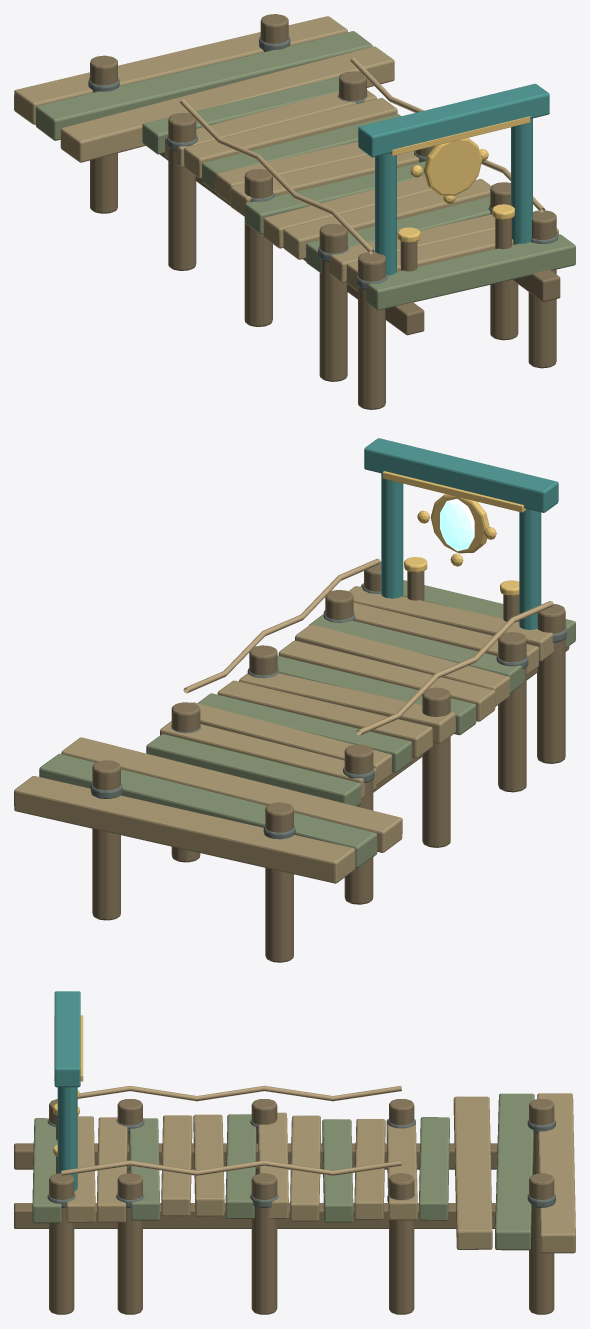
The model's file is building_sallow_jetty_v1.glb.
3 renders of one model, top to bottom at view 1: azimuth 30°, elevation 25°; view 2: azimuth 150°, elevation 25°; view 3: azimuth 270°, elevation 25°, orthographic. The views are drawn at different scales.
Visible parts, largest first — view 1: LandingPlank_01, LandingPlank_02, PierPlank_12, ShrineLintel, LandingPlank_00, PierPlank_02, Pile_3_L, Pile_1_L, Pile_4_L, Pile_2_L, PierPlank_08, PierPlank_00 (+24 smaller); view 2: LandingPlank_00, LandingPlank_02, LandingPlank_01, ShrineLintel, PierPlank_00, PierPlank_04, PierPlank_08, PierPlank_07, Pile_4_L, PierPlank_05, Pile_2_L, Pile_3_L (+21 smaller); view 3: LandingPlank_02, LandingPlank_01, LandingPlank_00, Bearer_R, Pile_2_R, Pile_3_R, PierPlank_00, Pile_4_R, Pile_1_R, PierPlank_04, PierPlank_03, PierPlank_07 (+19 smaller).
Part boxes in pixels (x1,y1,x2,y2): LandingPlank_01: (35,31,372,140); LandingPlank_02: (60,46,394,162); PierPlank_12: (366,234,575,310); ShrineLintel: (358,84,549,157); LandingPlank_00: (14,16,347,124); PierPlank_02: (184,98,397,178); Pile_3_L: (319,224,347,381); Pile_1_L: (168,113,196,270); Pile_4_L: (358,252,385,409); Pile_2_L: (244,169,272,326); PierPlank_08: (283,179,491,259); PierPlank_00: (142,77,339,154); LandingPlank_00: (14,776,355,883); LandingPlank_02: (61,737,402,852); LandingPlank_01: (39,753,377,867); ShrineLintel: (364,438,558,512); PierPlank_00: (146,734,361,806); PierPlank_04: (217,680,432,758); PierPlank_08: (295,624,510,706); PierPlank_07: (278,640,495,721); Pile_4_L: (537,604,565,763); PierPlank_05: (239,673,455,743); Pile_2_L: (422,687,450,847); Pile_3_L: (498,632,526,792); LandingPlank_02: (453,1096,492,1249); LandingPlank_01: (495,1093,534,1250); LandingPlank_00: (537,1093,575,1253); Bearer_R: (14,1203,495,1228); Pile_2_R: (251,1173,277,1314); Pile_3_R: (117,1173,142,1314); PierPlank_00: (419,1117,449,1220); Pile_4_R: (49,1173,74,1314); Pile_1_R: (389,1173,414,1314); PierPlank_04: (290,1115,320,1221); PierPlank_03: (322,1119,353,1222); PierPlank_07: (193,1114,224,1216).
Size of the model in its own units: 5.51 by 4.5 by 9.42.
